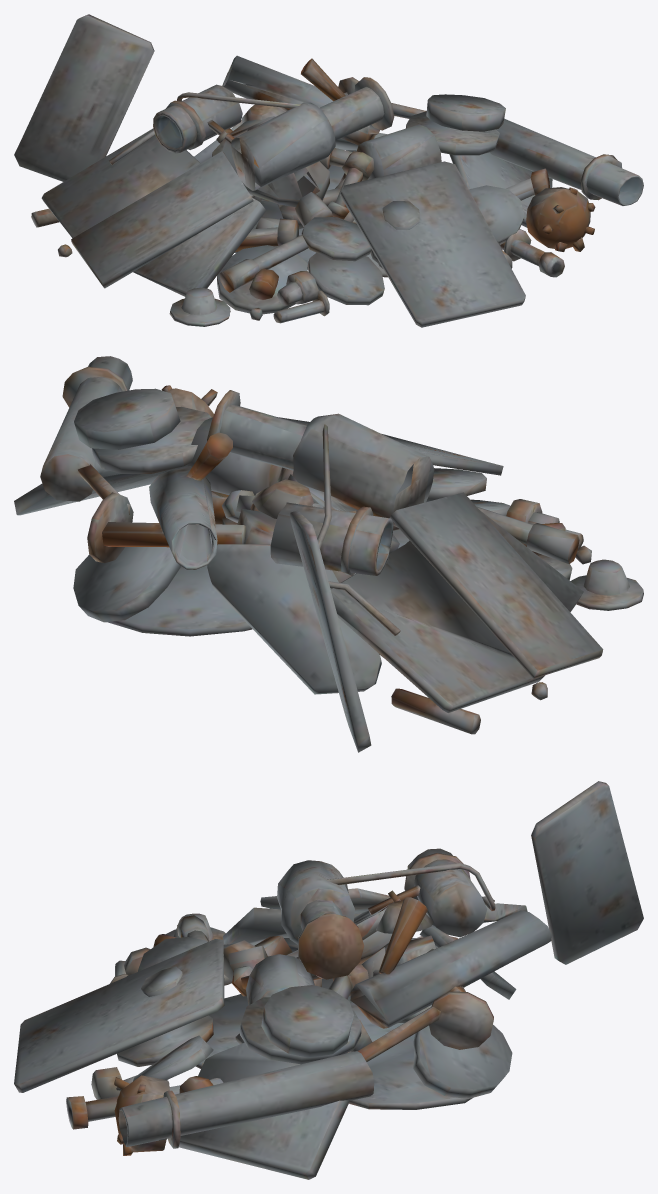
The model's file is s_scrap.glb.
3 renders of one model, top to bottom at view 1: azimuth 30°, elevation 25°; view 2: azimuth 150°, elevation 25°; view 3: azimuth 270°, elevation 25°, orthographic. The views are drawn at different scales.
Bounding box in the file's own units: 0.9565 × 0.3311 × 0.9263.
Materials: 1 (1 with a texture image).
